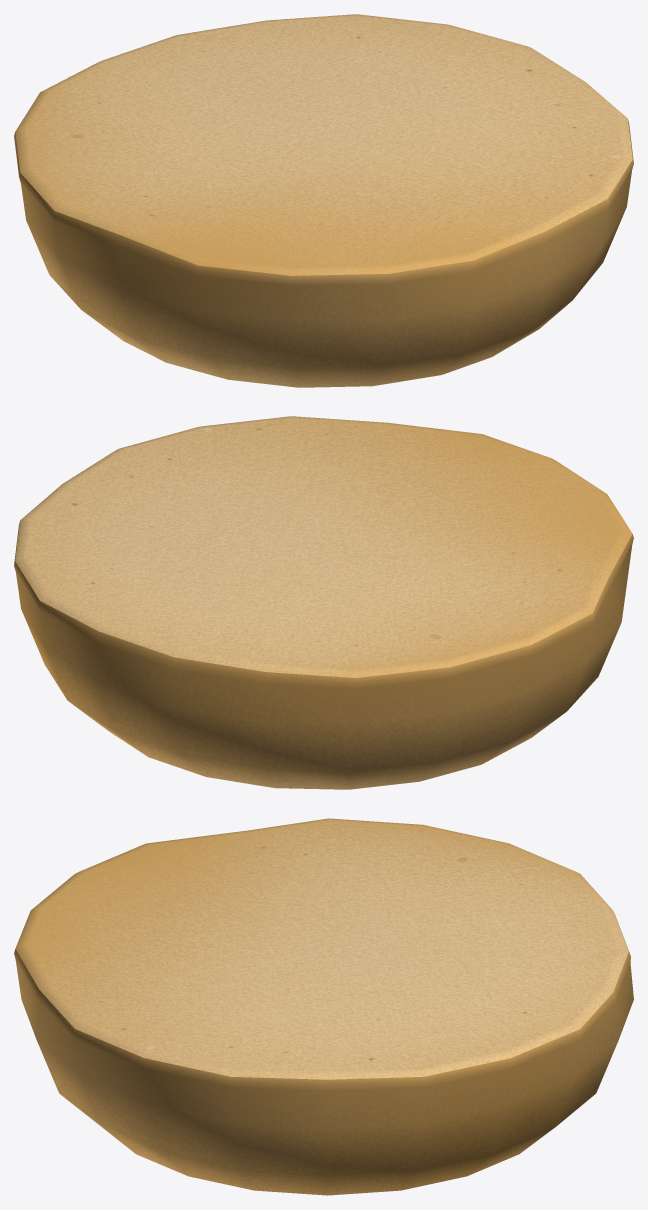
File: 2choux.fbx
The picture shows the model from 3 angles, top to bottom: view 1: azimuth 30°, elevation 25°; view 2: azimuth 150°, elevation 25°; view 3: azimuth 270°, elevation 25°; orthographic projection.
Parts seen in each view (by area): view 1: Object001; view 2: Object001; view 3: Object001.
Part boxes in pixels (box(x1,y1,x2,y2)): Object001: box(14, 14, 633, 387); Object001: box(14, 416, 633, 789); Object001: box(14, 818, 633, 1195).
Bounding box in the file's own units: 34.4 × 11.48 × 34.4.
1 material, 1 textured.
